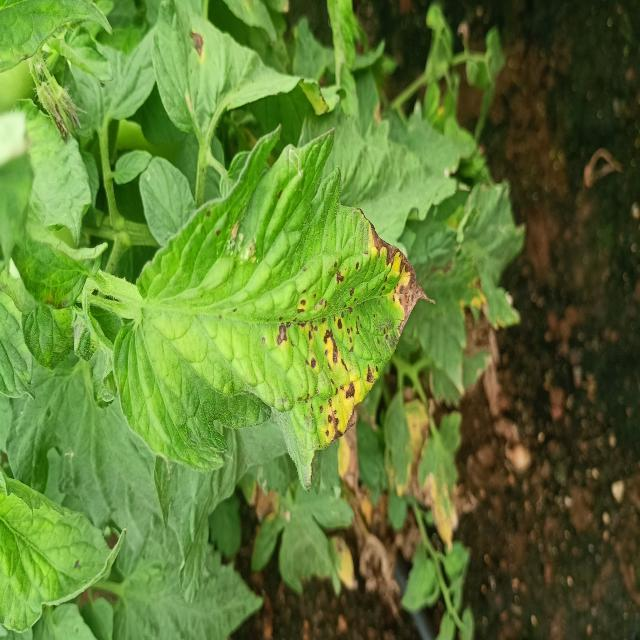Tomato mosaic virus leaf: (260, 180, 440, 457)
